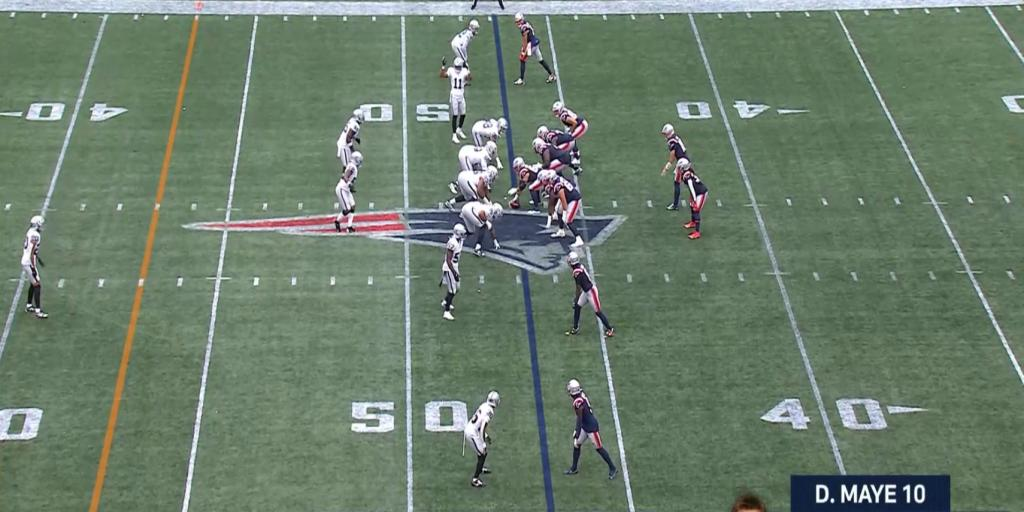player: (563, 379, 617, 478), (662, 125, 707, 237), (566, 252, 613, 335), (465, 390, 499, 486), (542, 174, 583, 246), (21, 215, 48, 317), (440, 56, 471, 143), (516, 12, 555, 81), (675, 158, 708, 237), (441, 223, 466, 320), (335, 151, 362, 231), (446, 166, 497, 208), (461, 201, 503, 252), (534, 137, 579, 177), (508, 157, 540, 207), (337, 109, 364, 166), (451, 19, 479, 67), (553, 102, 588, 140), (458, 141, 496, 171), (472, 117, 508, 147), (537, 125, 574, 148), (530, 185, 540, 211), (516, 66, 524, 84)
